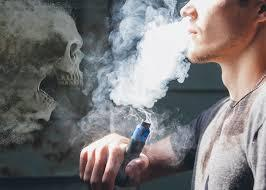smoker: (77, 0, 266, 190)
